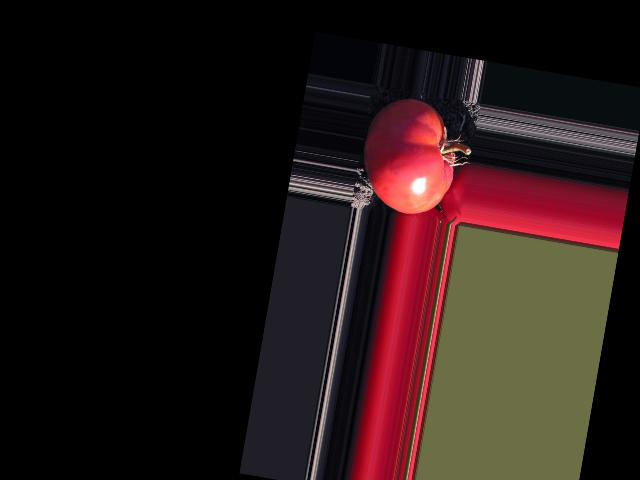tomato: (354, 92, 464, 219)
